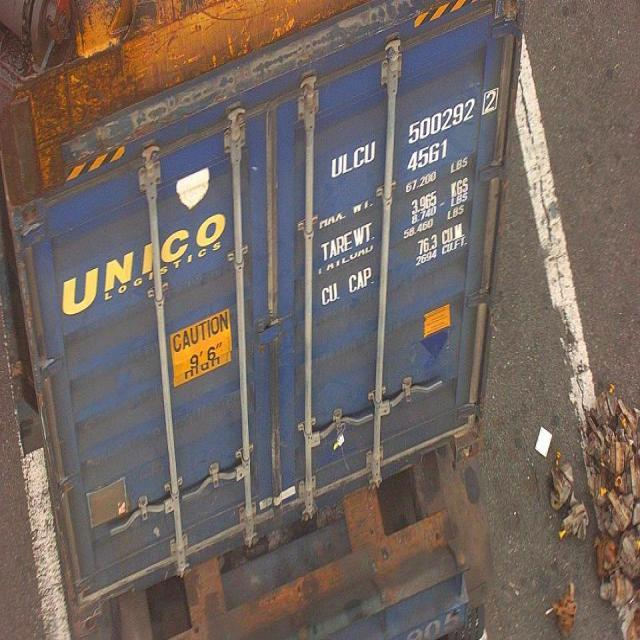ISO: (406, 139, 447, 181)
container_number: (332, 84, 500, 179)
